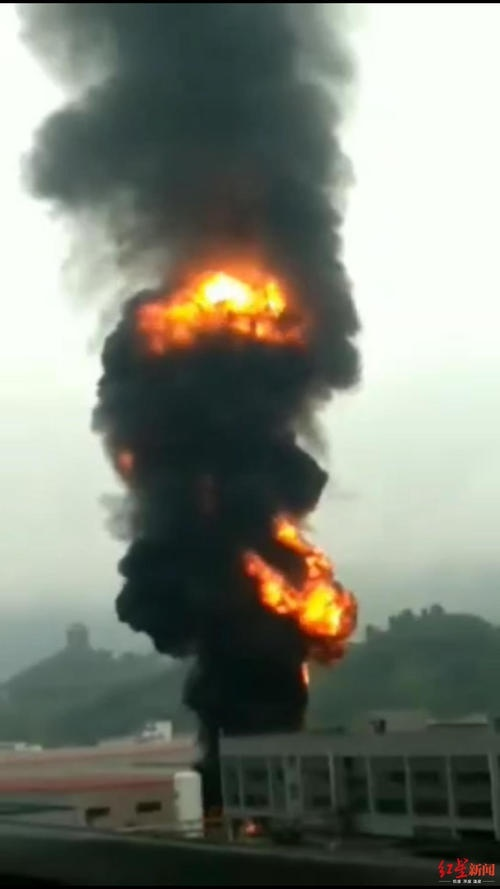fire: (249, 525, 353, 635), (141, 265, 293, 336)
